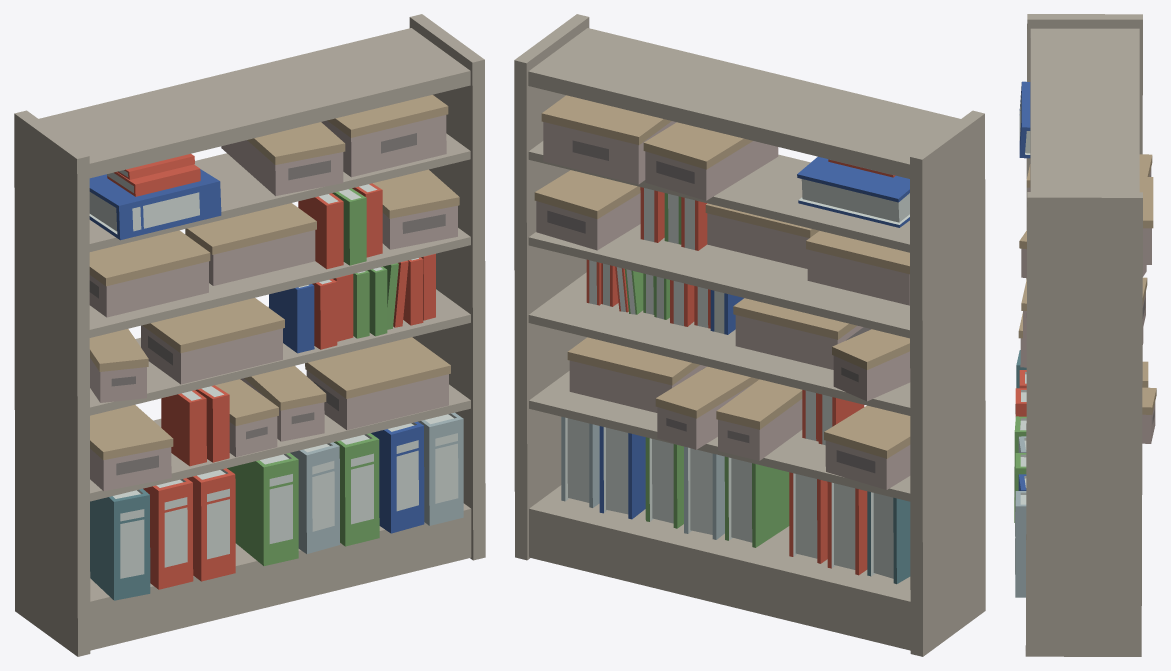
Rendered from SM_Shelf_01.fbx.
3 views of the same model, side by side, from view 1: azimuth 30°, elevation 25°; view 2: azimuth 150°, elevation 25°; view 3: azimuth 270°, elevation 25° (orthographic). The views are drawn at different scales.
Visible parts, largest first — view 1: SM_Shelf_01; view 2: SM_Shelf_01; view 3: SM_Shelf_01.
Part boxes in pixels (left/top/right/bottom): SM_Shelf_01: left=14, top=14, right=485, bottom=656; SM_Shelf_01: left=514, top=14, right=985, bottom=656; SM_Shelf_01: left=1014, top=14, right=1156, bottom=656.
Size of the model in its own units: 181 by 211 by 59.33.
